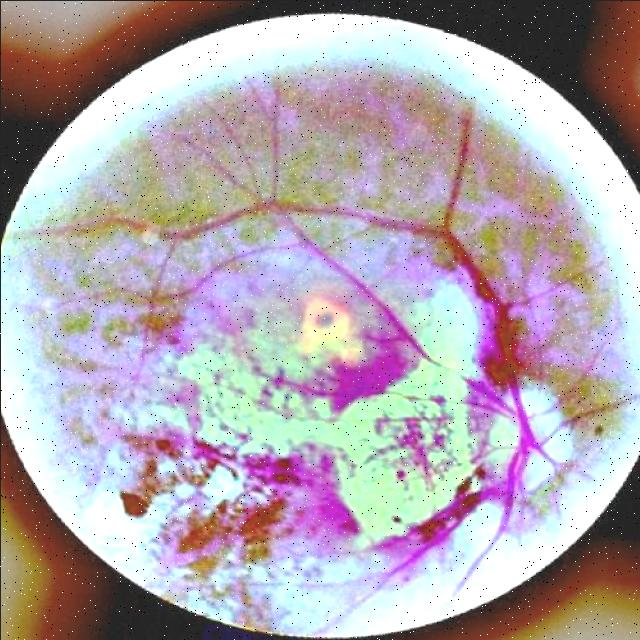Nerves: (23, 113, 564, 590)
